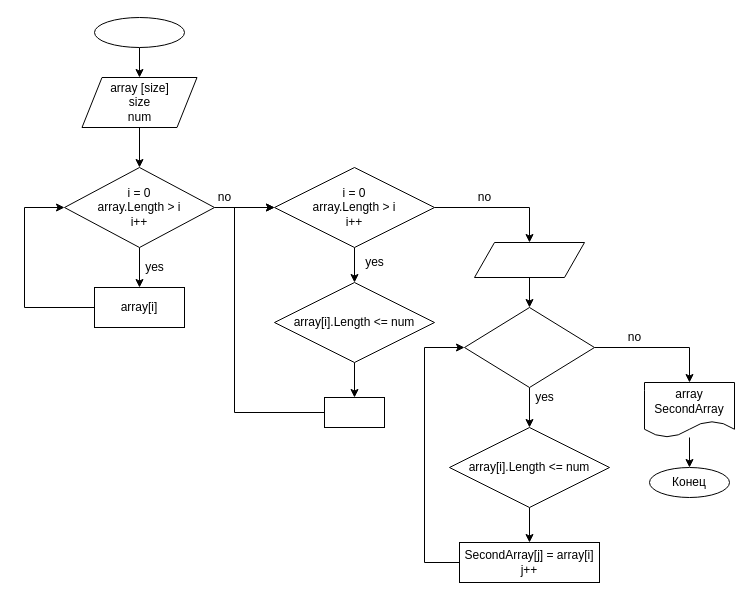
Some shapes in this 752 by 600 pixel diagram are drawn without their labels. The centre of each missing label's shape, as x and y in pixels:
"count++" goes at point 354,412.
"i = 0 j = 0 i < size i++" goes at point 529,347.
"SecondArray" goes at point 529,260.
"Начало" goes at point 139,32.
